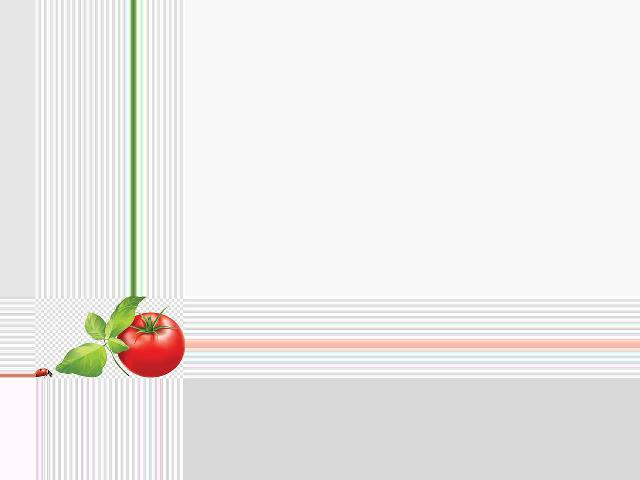tomato: (116, 312, 184, 377)
